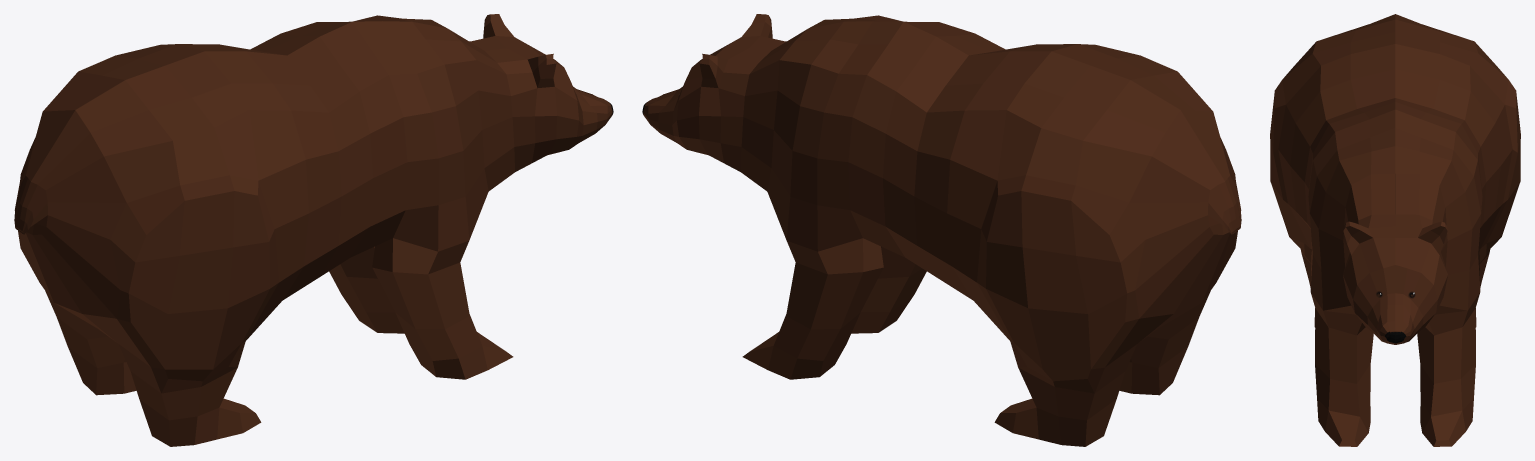
Rendered from Oso.fbx.
3 views of the same model, side by side, from view 1: azimuth 30°, elevation 25°; view 2: azimuth 150°, elevation 25°; view 3: azimuth 270°, elevation 25° (orthographic). The views are drawn at different scales.
Visible parts, largest first — view 1: Plane; view 2: Plane; view 3: Plane.
Part boxes in pixels (x1,y1,x2,y2): Plane: (14,14,613,446); Plane: (642,14,1241,446); Plane: (1270,14,1520,446).
Bounding box in the file's own units: 581 × 327 × 255.
